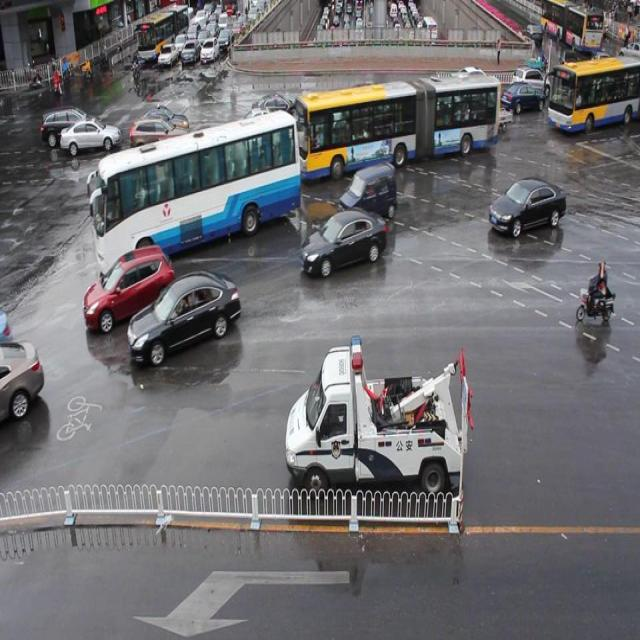bus: (286, 333, 474, 494)
car: (129, 274, 242, 360), (84, 249, 175, 332), (302, 207, 385, 275), (490, 180, 566, 232), (1, 340, 45, 419), (340, 167, 397, 222), (129, 118, 190, 156), (60, 119, 121, 154), (42, 105, 93, 146), (346, 94, 395, 135), (233, 117, 281, 158), (142, 141, 182, 187), (342, 83, 392, 117), (253, 91, 300, 126), (319, 95, 361, 134), (237, 109, 281, 140), (450, 68, 494, 99), (503, 82, 545, 114), (451, 76, 484, 111), (512, 65, 548, 97), (144, 108, 190, 133), (427, 80, 461, 112)
van: (94, 117, 300, 273), (295, 73, 498, 179), (548, 55, 640, 131)
